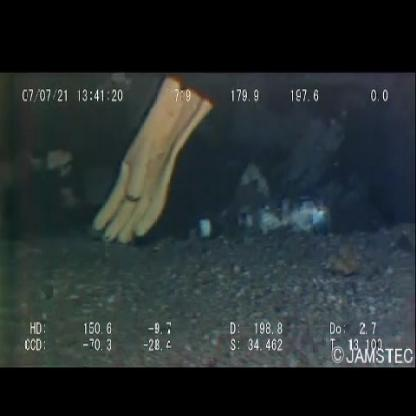Rác: (192, 186, 238, 248)
